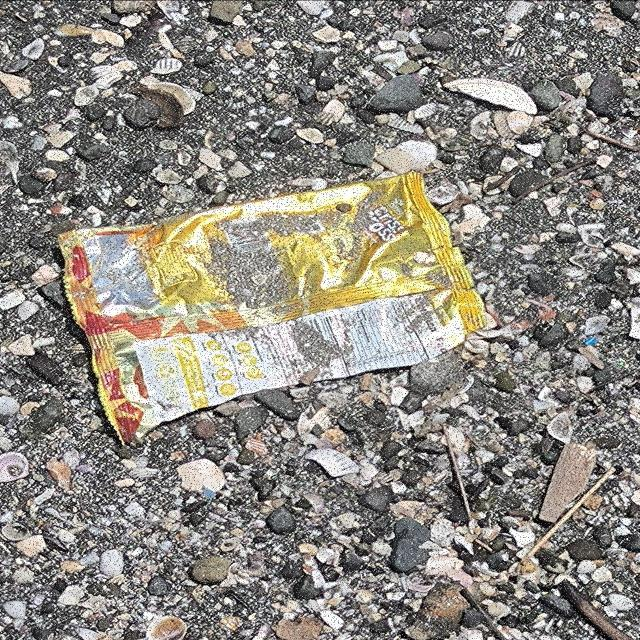plastic_waste: (61, 168, 488, 446)
